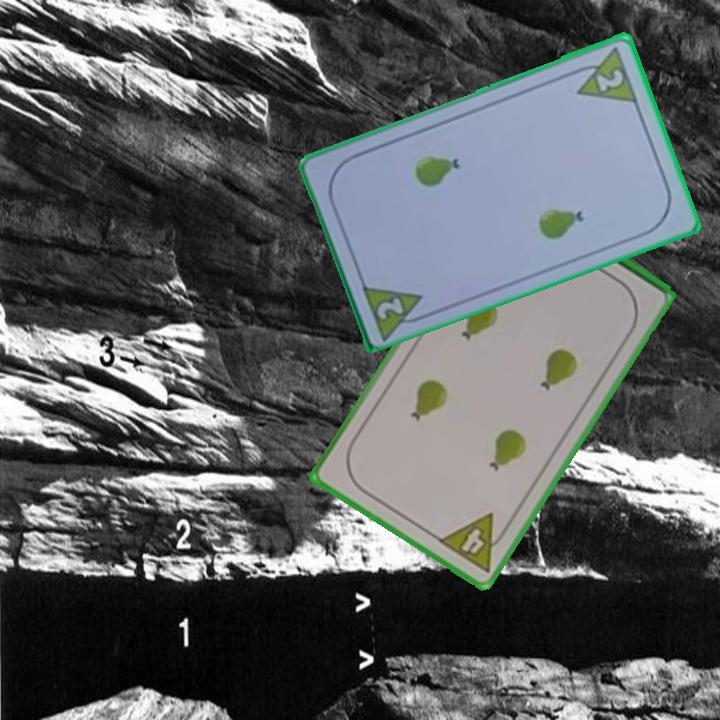2p: (567, 42, 641, 106), (373, 293, 407, 323)
4p: (434, 509, 514, 576)
